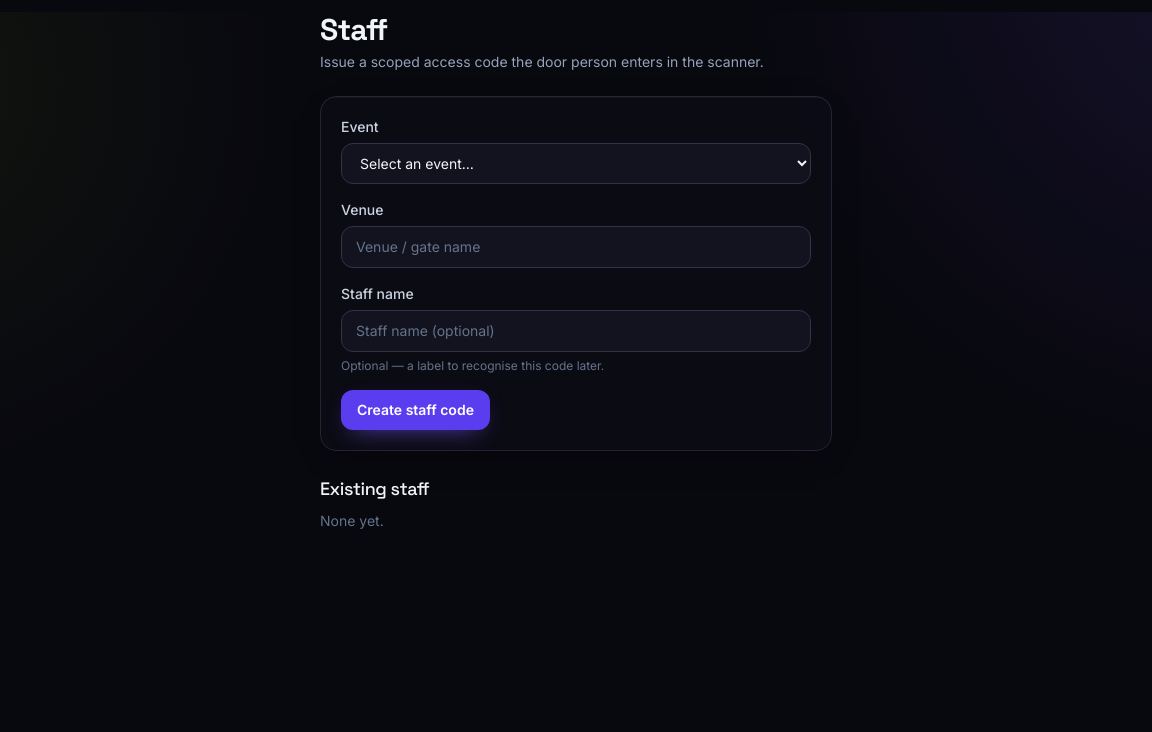
Scenario: Staff management page › issues a code after creating staff
Select "Jazz Night" in the dropdown. click: (576, 164)
box: [341,143,811,184]
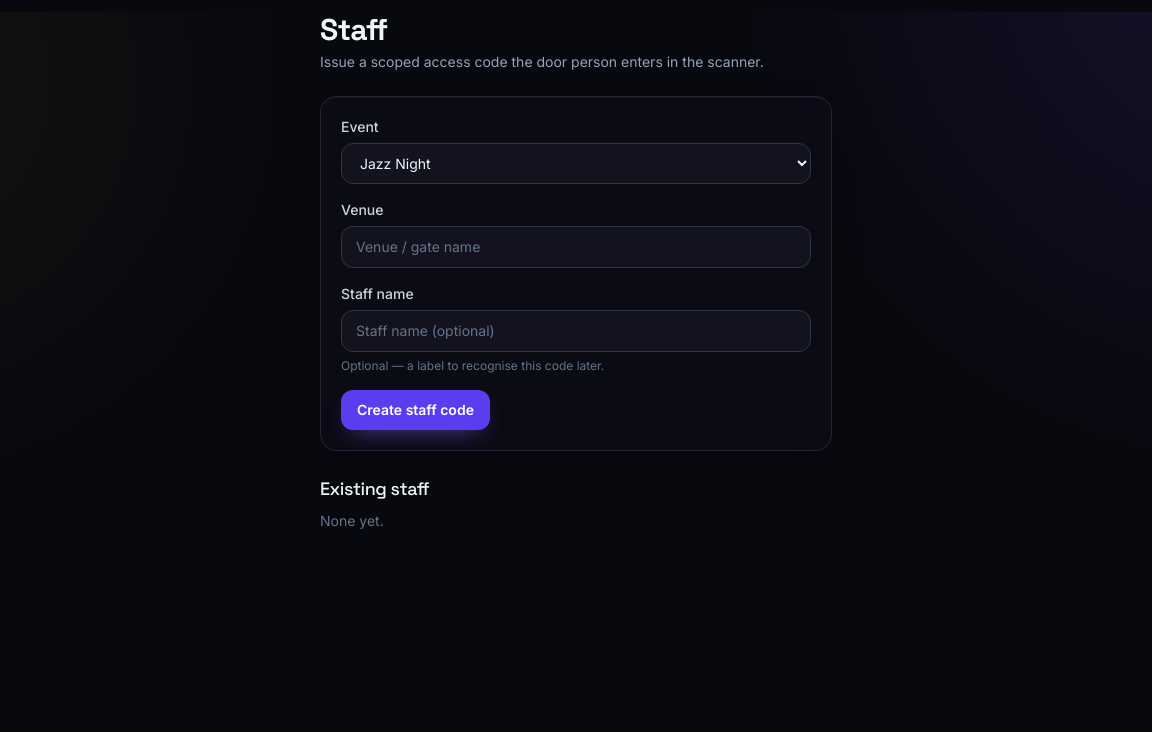
Type "Main Gate" into the field with placeholder "Venue / gate name". click: (576, 247)
box: [341,226,811,268]
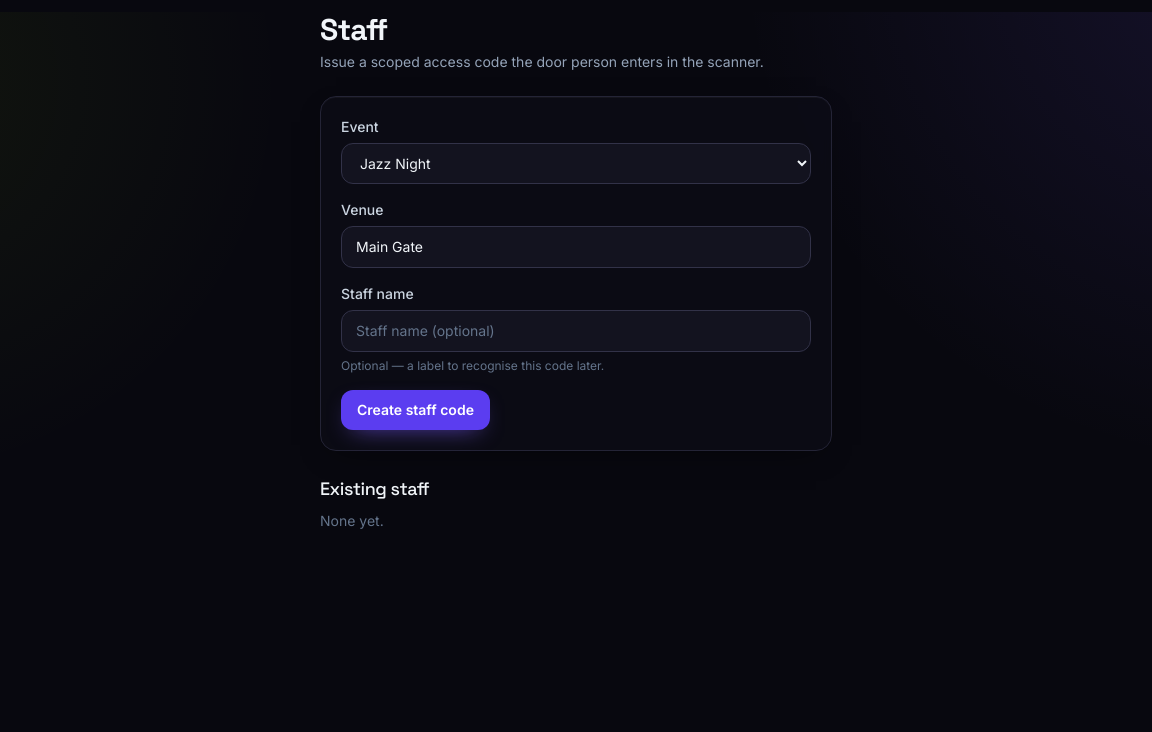
Click the button "Create staff code". click: (415, 410)
box: [341,390,490,430]
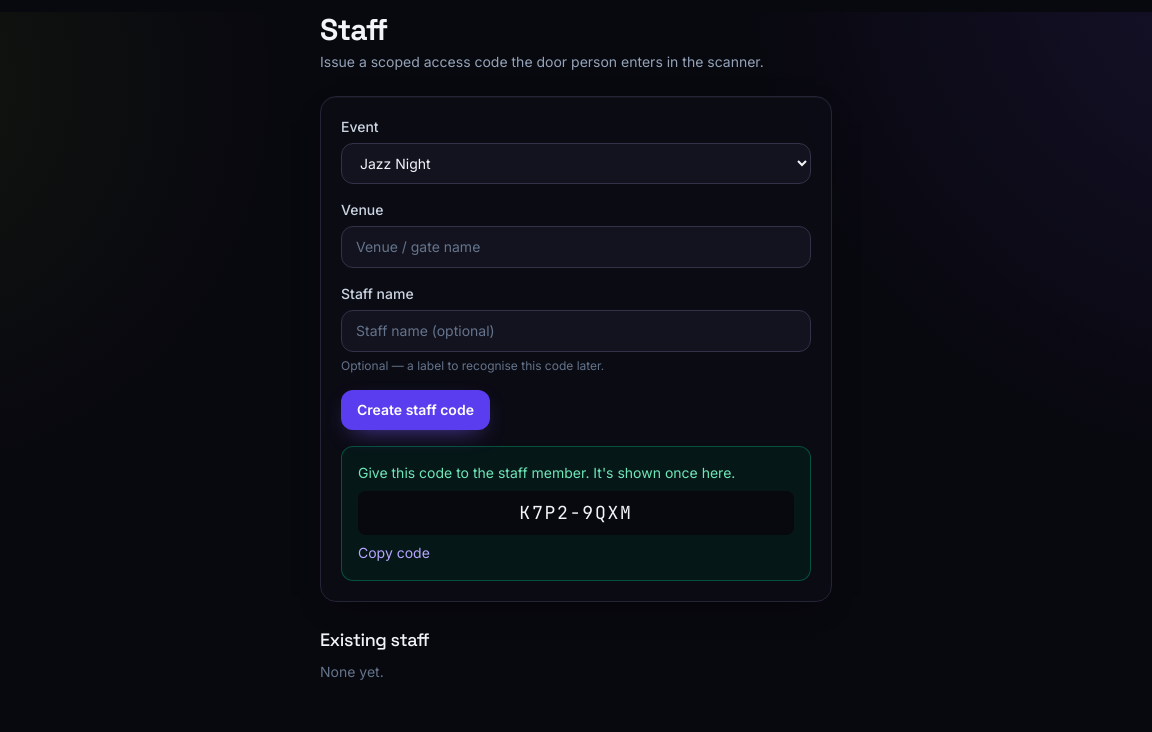
Check: the text "K7P2-9QXM" is shown, box [358,491,794,535]
